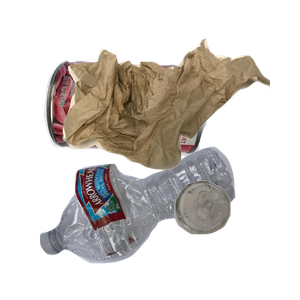glass: (172, 178, 300, 300)
metal: (41, 58, 240, 207)
plastic: (37, 144, 265, 300)
trash: (60, 36, 300, 198)
